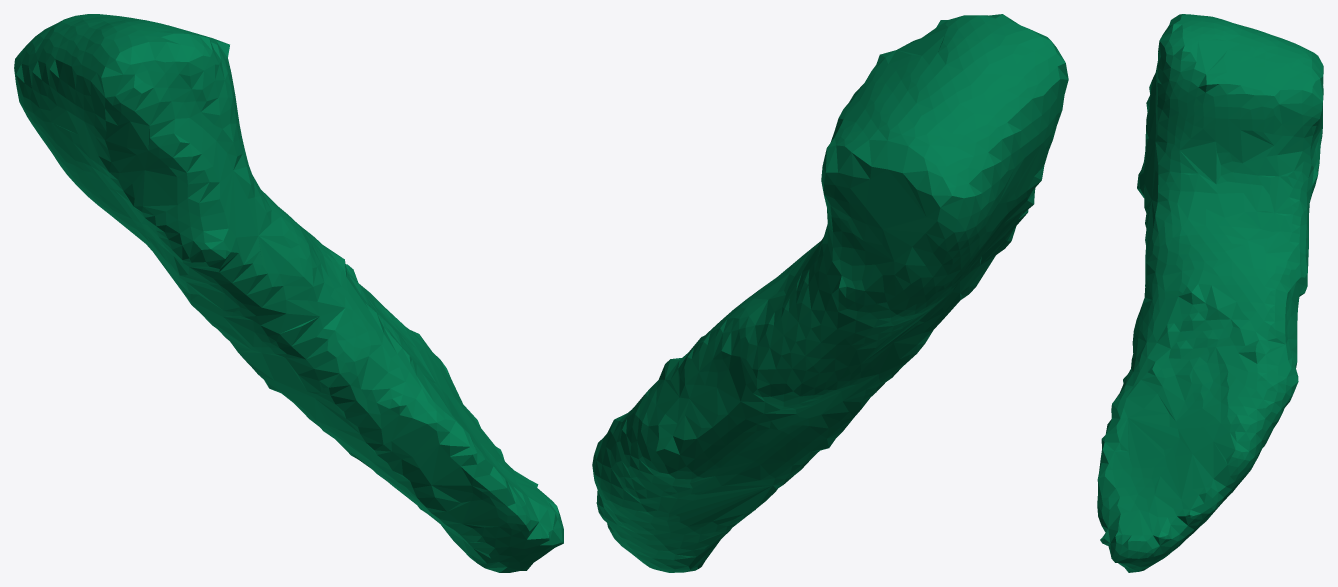
Rendered from Model_213_RH__Dorsal_nucleus_of_the_endopiriform_claustrum_(DEn).obj.
The picture shows the model from 3 angles, left to right: view 1: azimuth 30°, elevation 25°; view 2: azimuth 150°, elevation 25°; view 3: azimuth 270°, elevation 25°; orthographic projection. The views are drawn at different scales.
Size of the model in its own units: 2.87 by 3.77 by 1.8.
